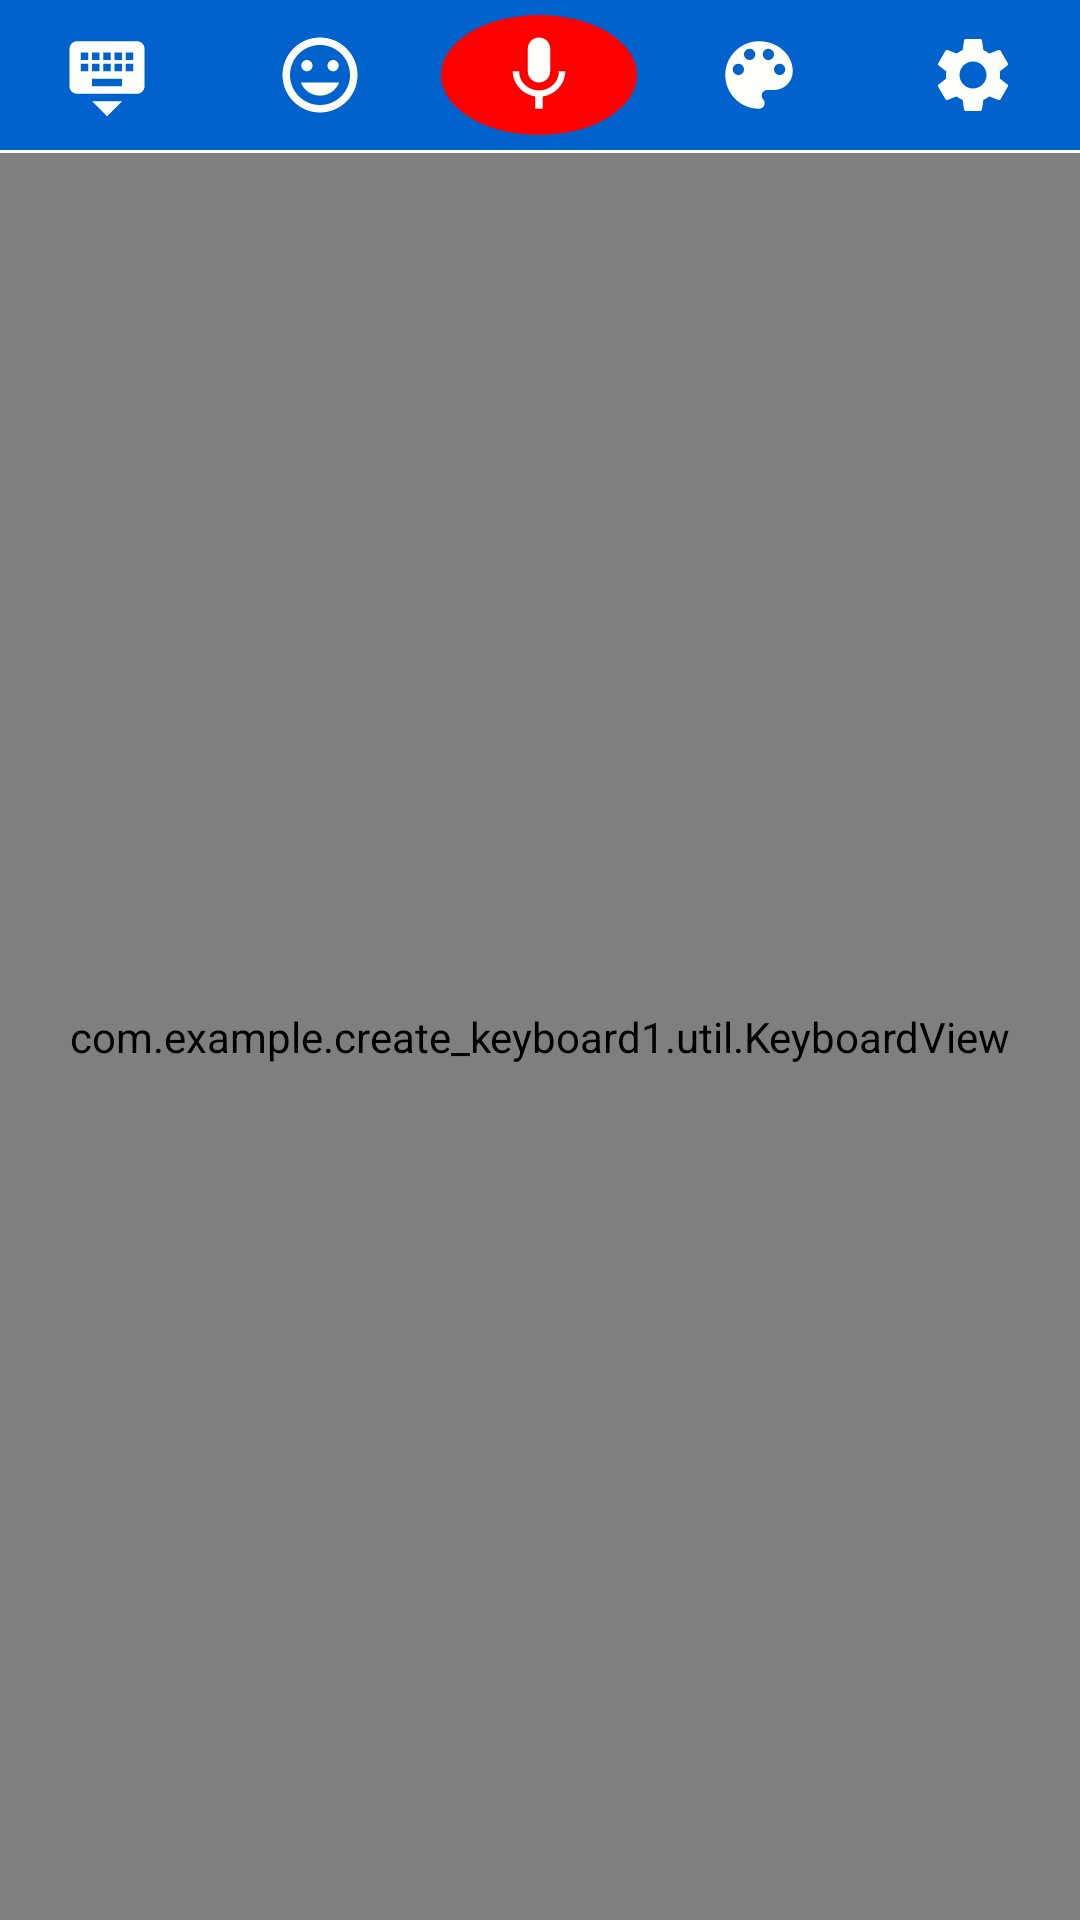

Point at icon controls on the screen. Image size 1080 × 1920, points as (x=x, y=y).
insert emoticon: (x=320, y=75)
keyboard hide: (x=107, y=78)
mic: (x=539, y=75)
settings: (x=973, y=75)
